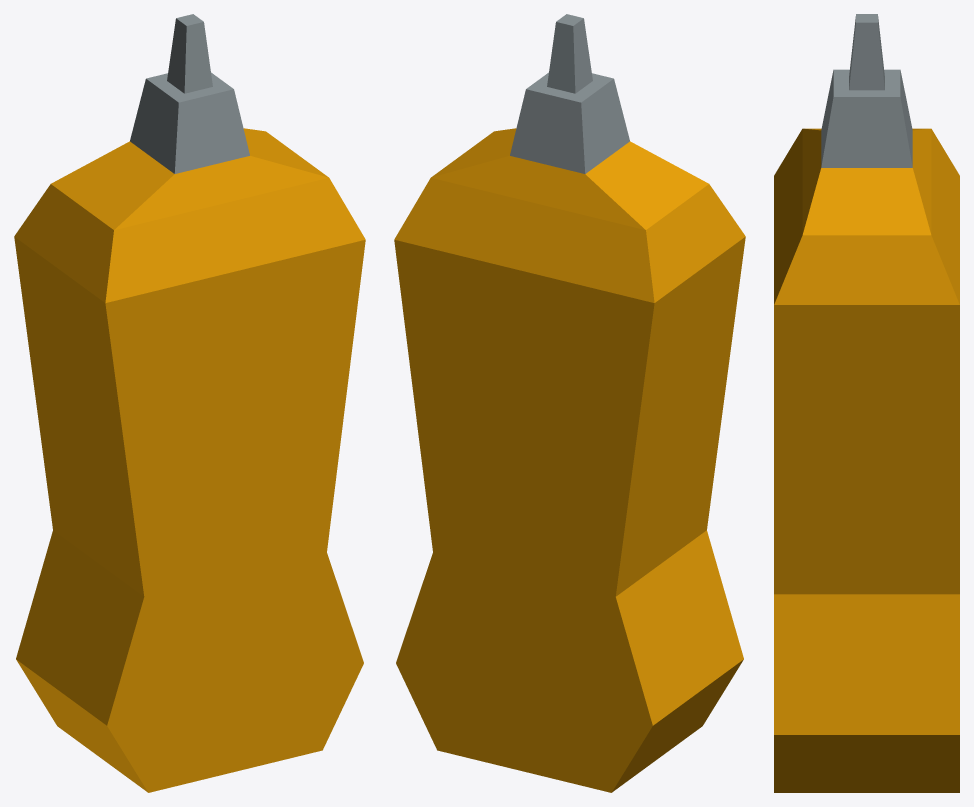
Rendered from MustardBottle.glb.
3 views of the same model, side by side, from view 1: azimuth 30°, elevation 25°; view 2: azimuth 150°, elevation 25°; view 3: azimuth 270°, elevation 25° (orthographic).
Visible parts, largest first — view 1: MustardBottle; view 2: MustardBottle; view 3: MustardBottle.
Part boxes in pixels (x1,y1,x2,y2): MustardBottle: (14, 14, 365, 792); MustardBottle: (394, 14, 745, 792); MustardBottle: (774, 14, 959, 792).
Bounding box in the file's own units: 0.0878 × 0.2315 × 0.0533.
